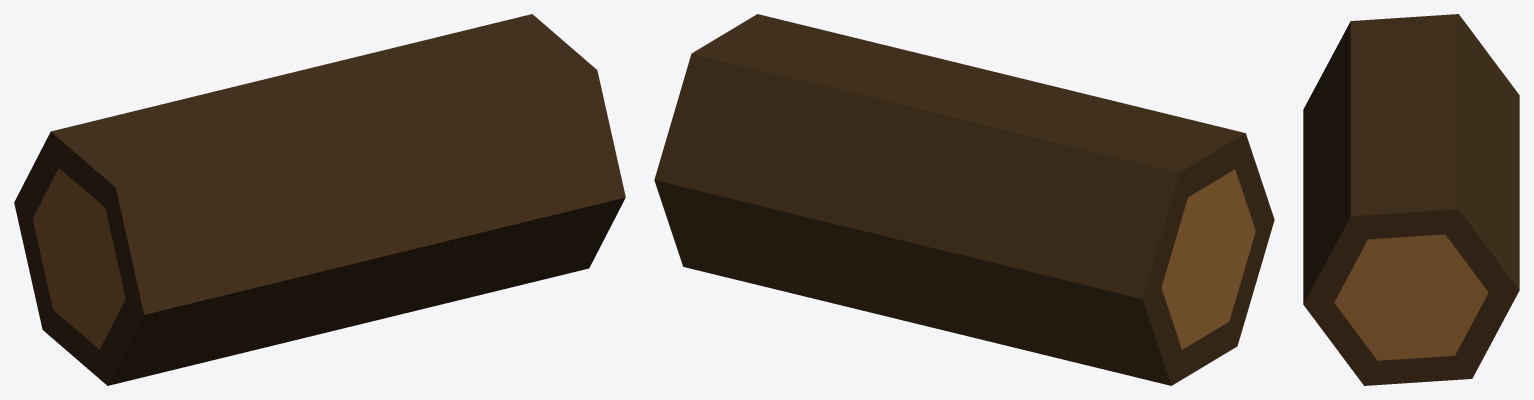
File: log.fbx
3 views of the same model, side by side, from view 1: azimuth 30°, elevation 25°; view 2: azimuth 150°, elevation 25°; view 3: azimuth 270°, elevation 25° (orthographic). The views are drawn at different scales.
Parts seen in each view (by area): view 1: campfire.001; view 2: campfire.001; view 3: campfire.001.
Part boxes in pixels (left/top/right/bottom): campfire.001: left=14, top=14, right=625, bottom=385; campfire.001: left=654, top=14, right=1274, bottom=385; campfire.001: left=1303, top=14, right=1519, bottom=385.
Size of the model in its own units: 58.83 by 24.84 by 27.54.
